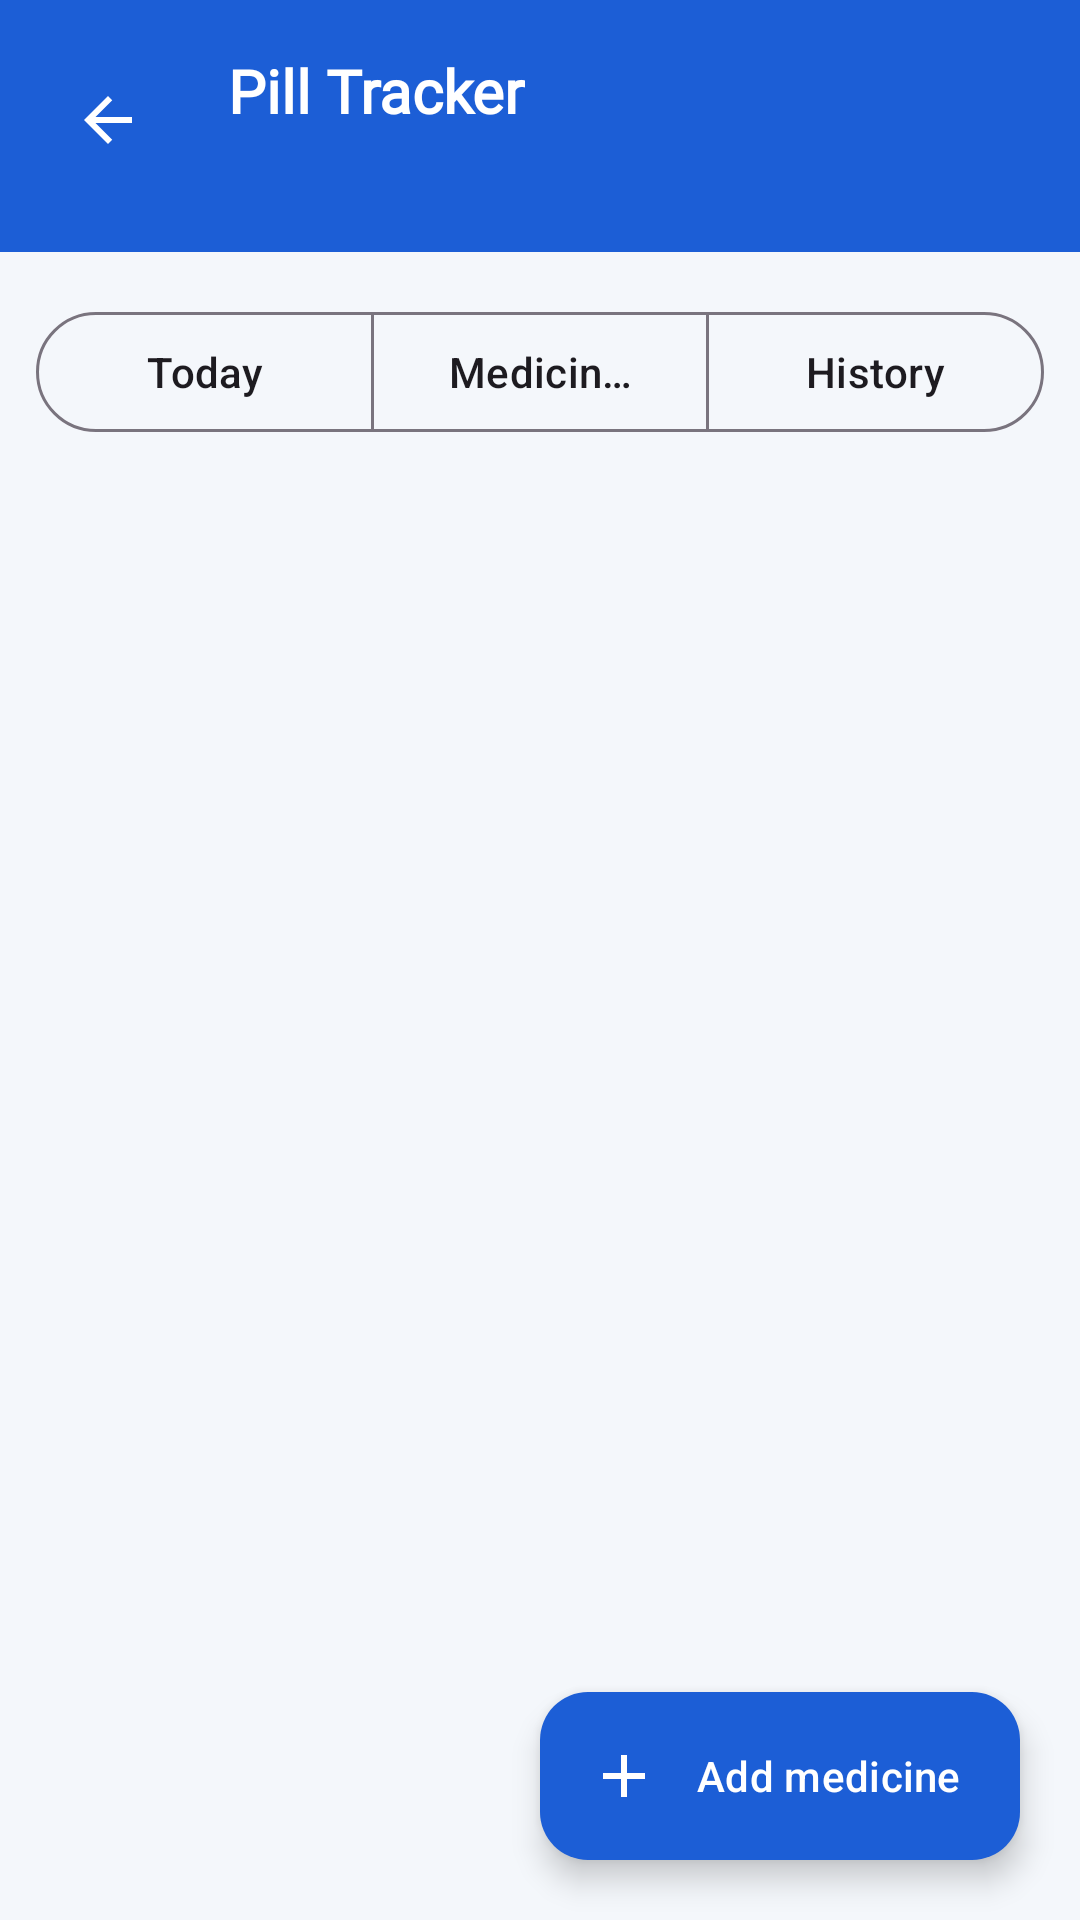

Icon bounding boxes for this 1080px×1920px phone screenshot, format (x1, y1, x2, y2):
Back: (84, 96, 132, 144)
